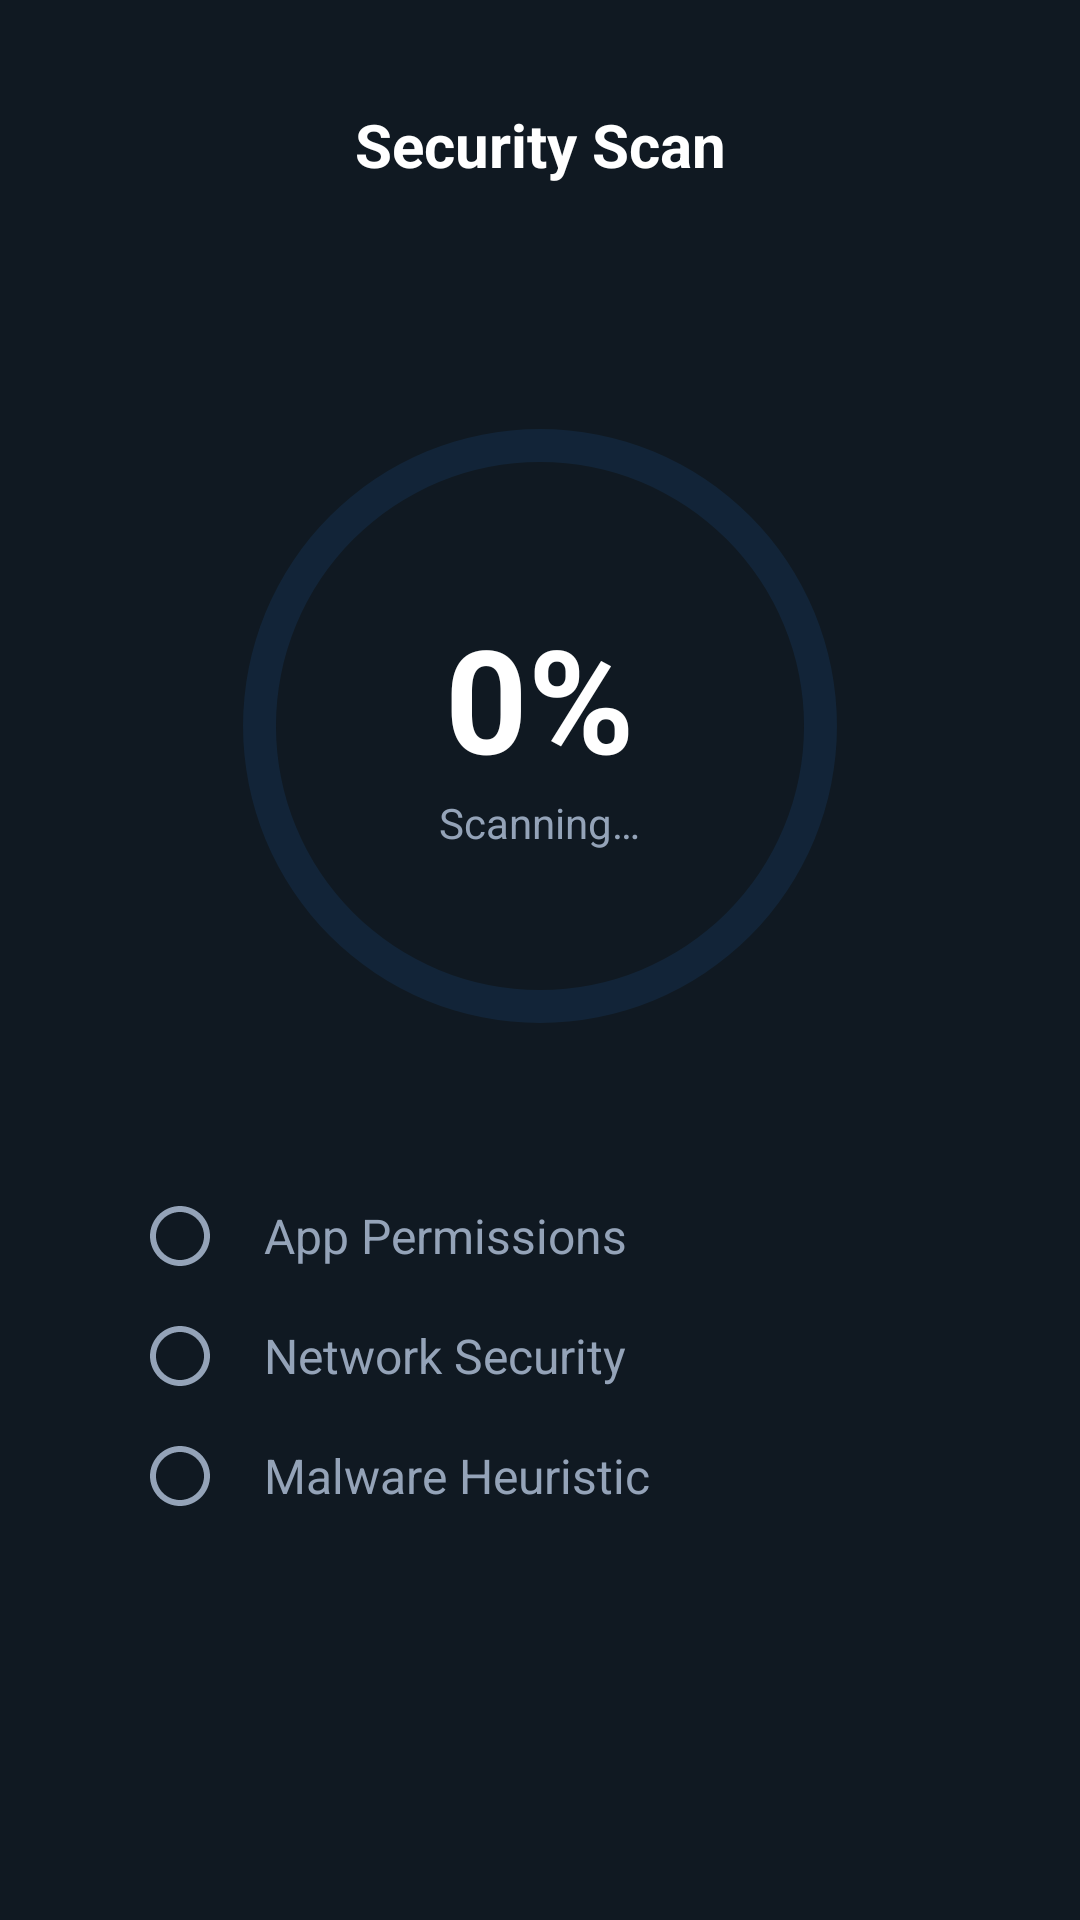

Where to tap for icons on this 1080x1920 app screen, as (x=x, y=y):
circle pending: (x=180, y=1236), (x=180, y=1356), (x=180, y=1476)
